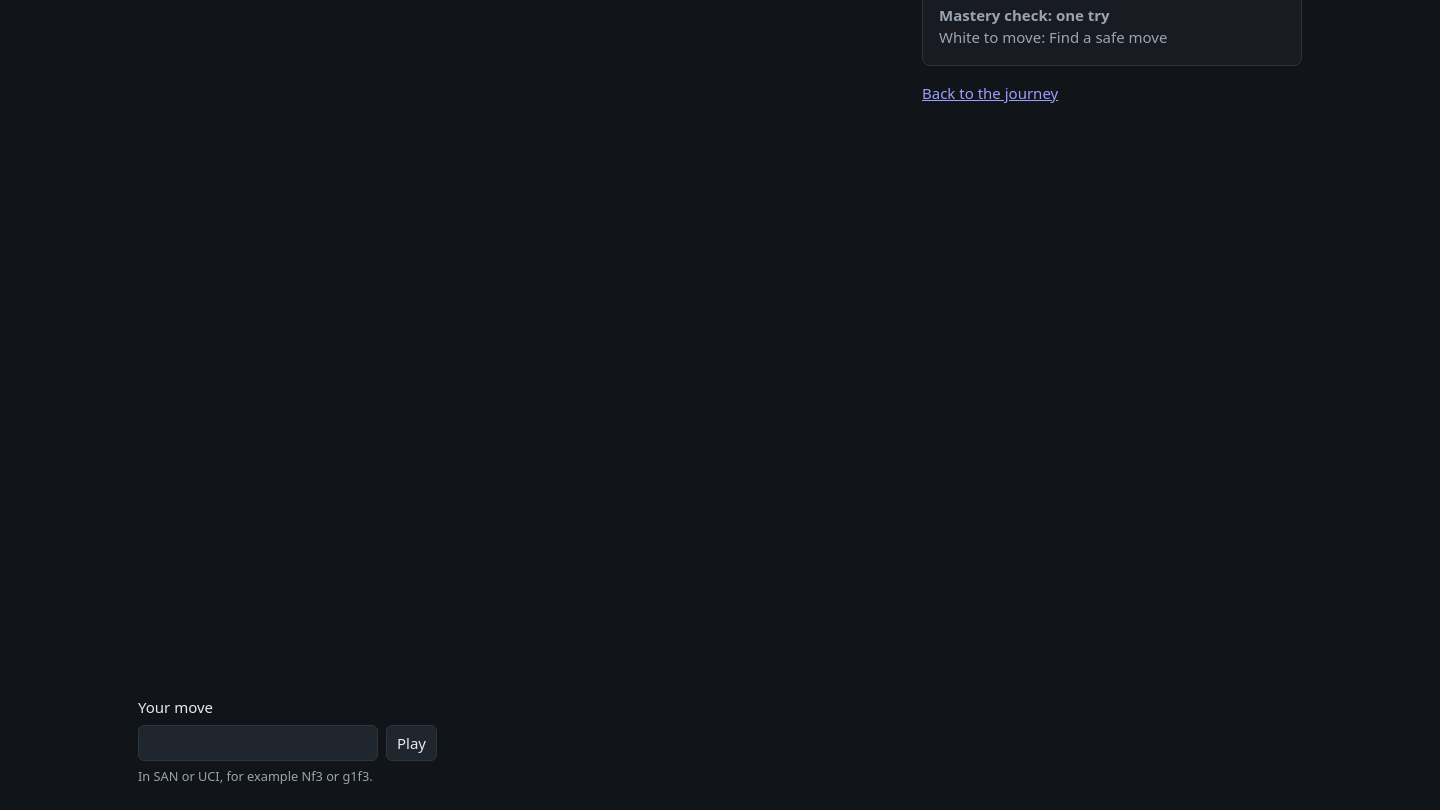
Mastery check puzzles › a 409 says why and reloads the lesson, moving on to what is still open
(page scrolled)
Type "Nxd4" into the field labelled "Your move" at x=258, y=743, box top-left (138, 724), bottom-right (378, 761)
Then press Enter
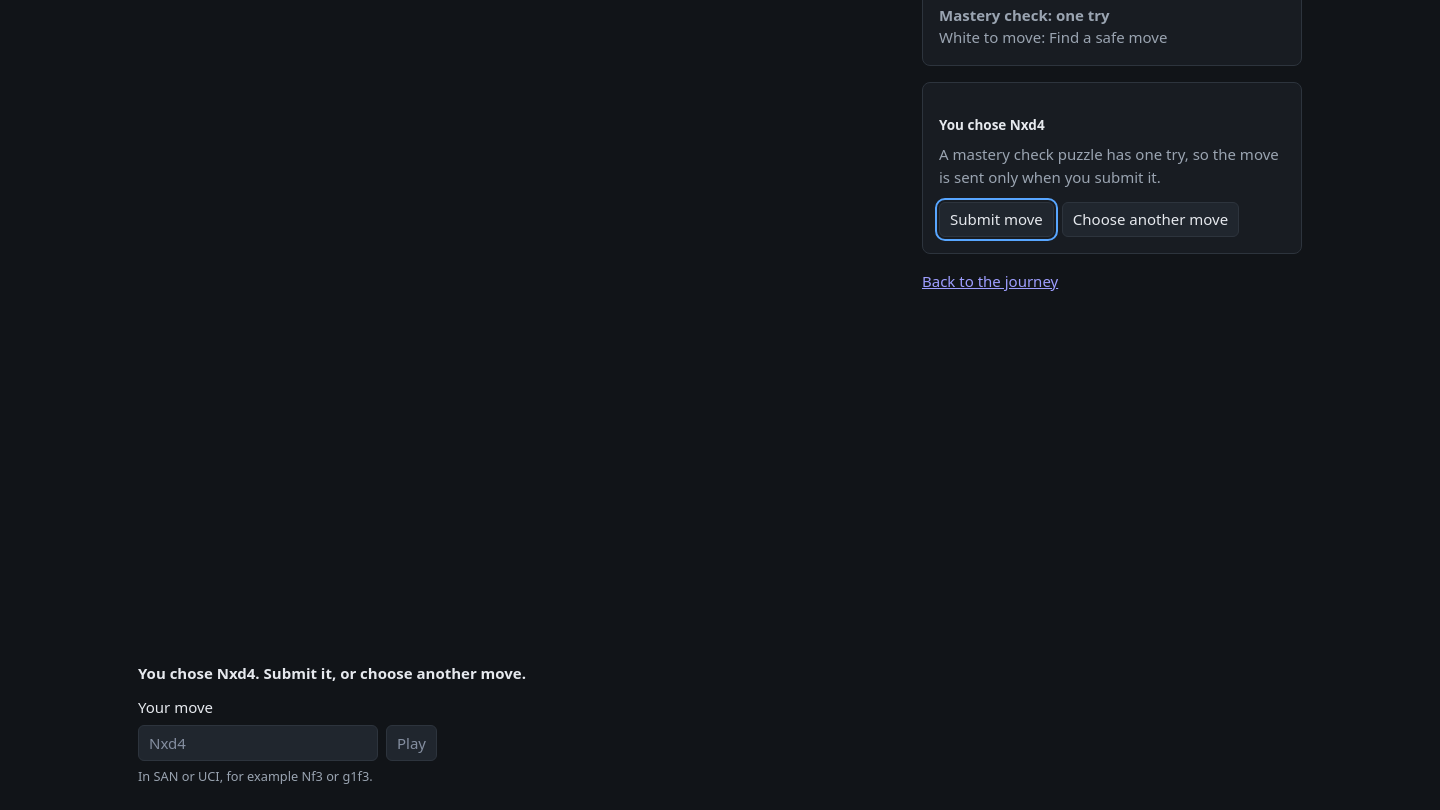
Click the button "Submit move" at x=996, y=219, box top-left (939, 202), bottom-right (1054, 236)
(page scrolled)
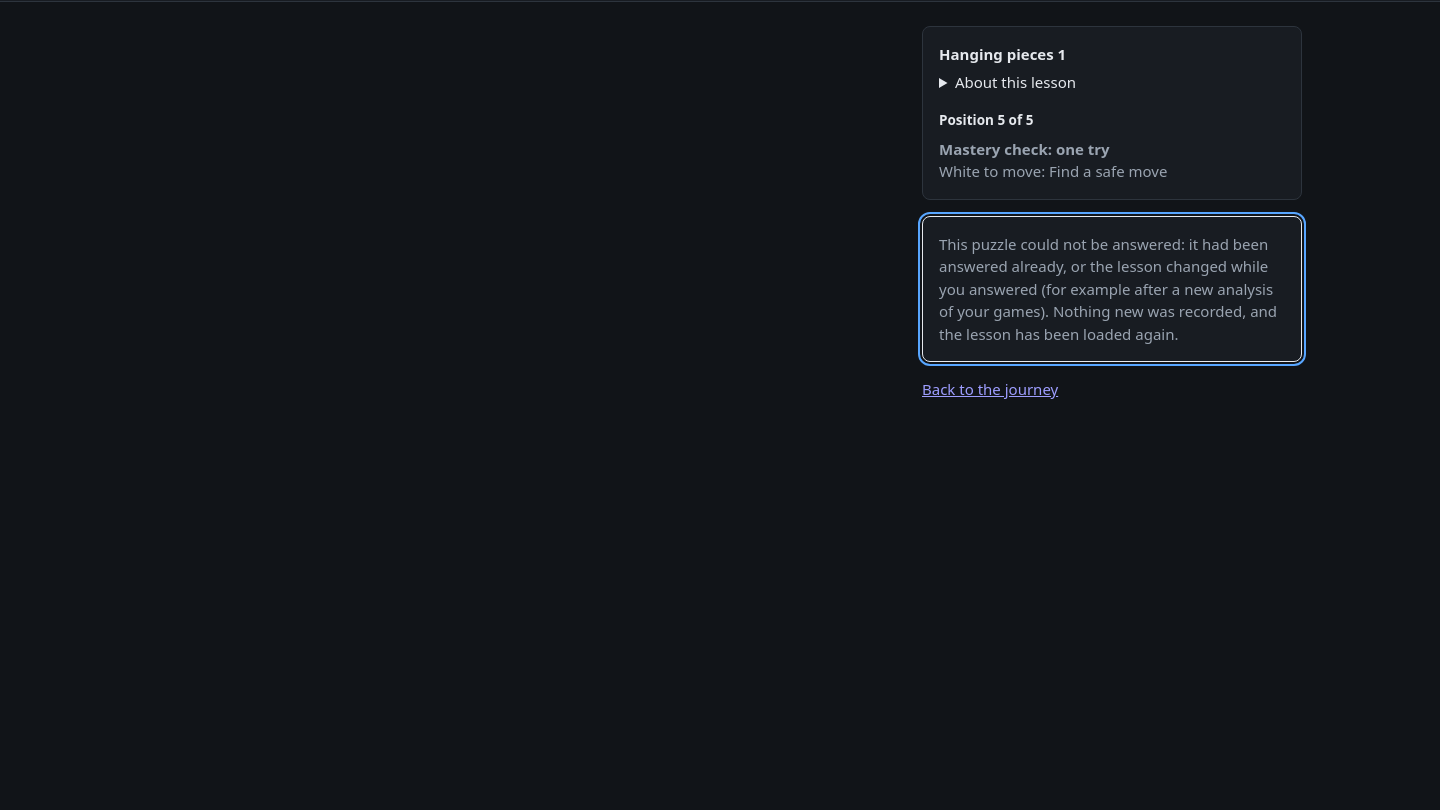
Now the element named "Notice" shows "it had been answered already, or the lesson changed", box top-left (939, 234), bottom-right (1277, 344)
Now the heading "Position 5 of 5" is shown, box top-left (939, 110), bottom-right (1034, 128)
